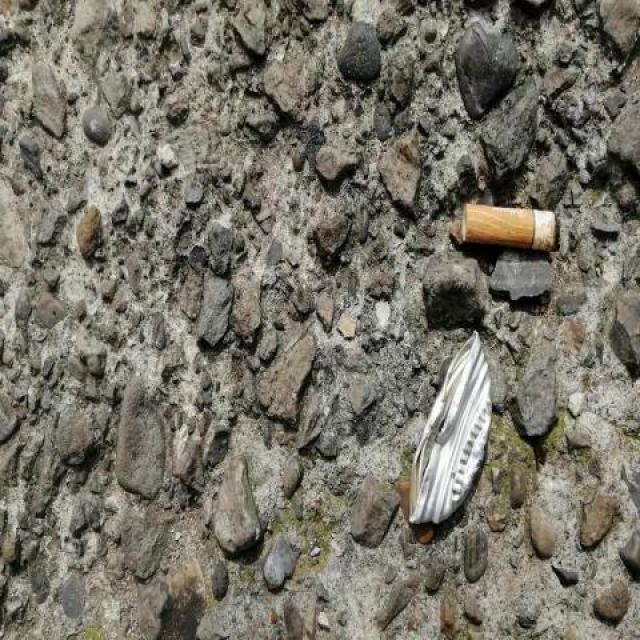non-organic waste: (459, 200, 562, 257)
